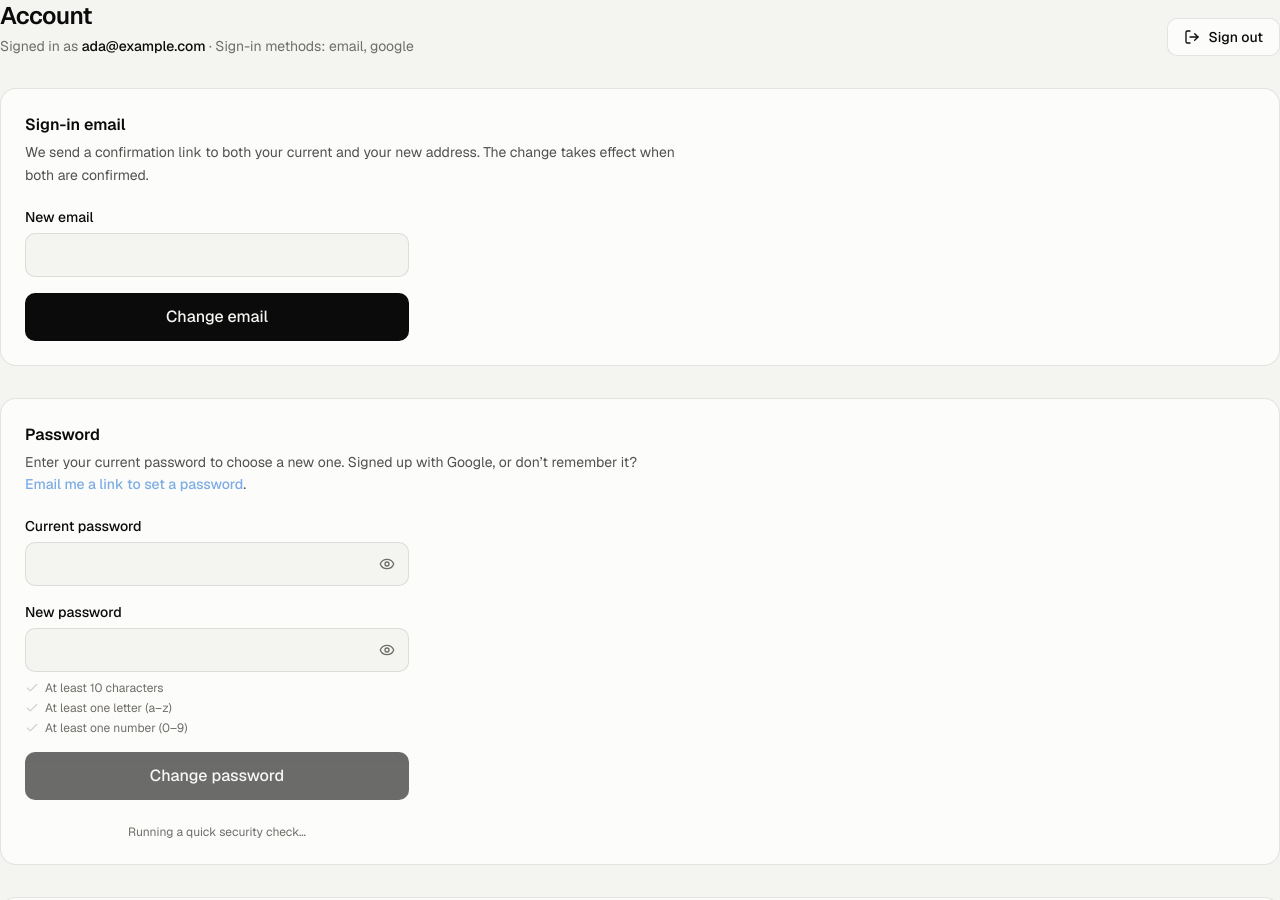
AccountSettings › changing the email › puts an invalid address next to the field, without a general alert
Type "nope" into the field labelled "New email" at (217, 254), box x1=25 y1=232 x2=409 y2=276
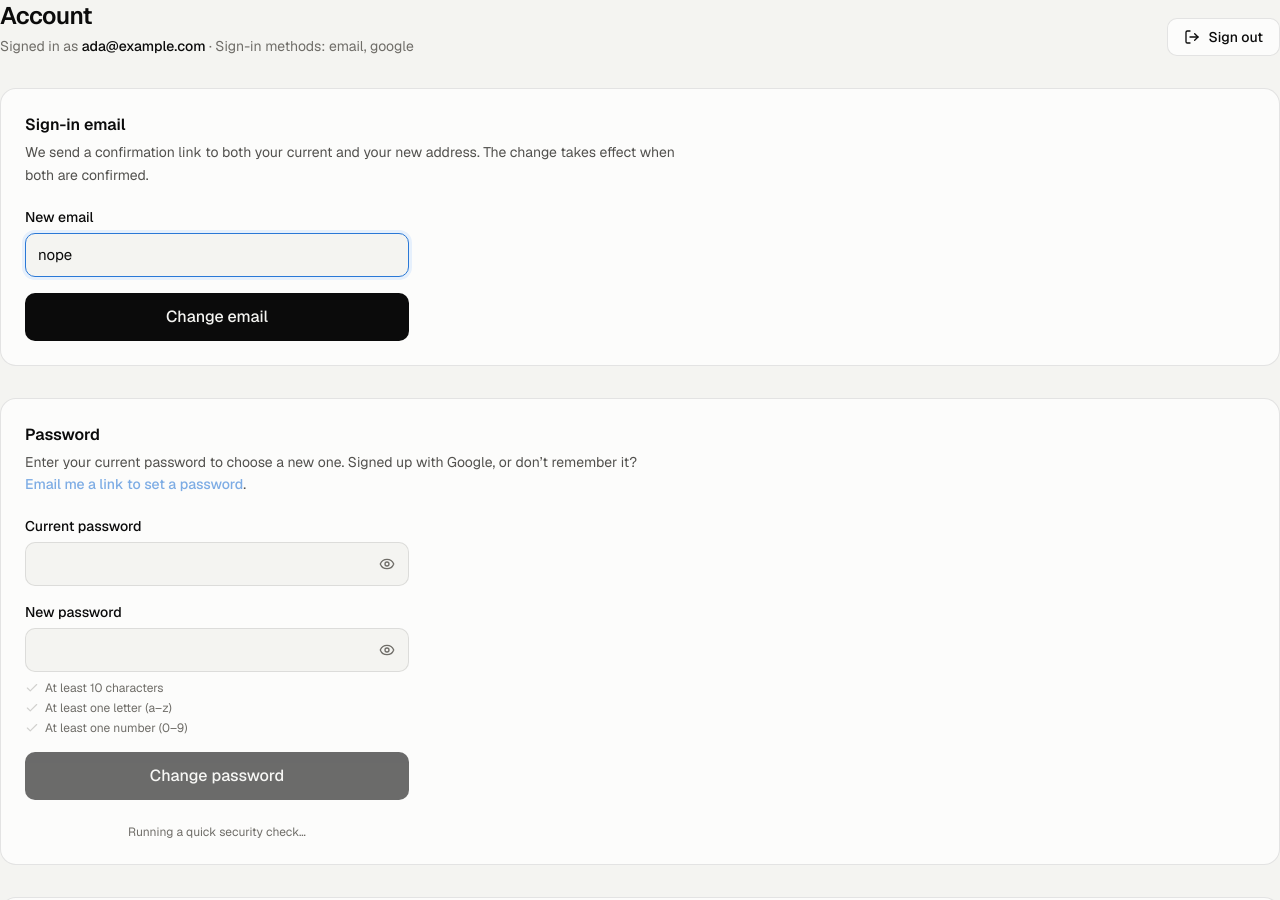
Click the button "Change email" at (217, 316), box x1=25 y1=292 x2=409 y2=340
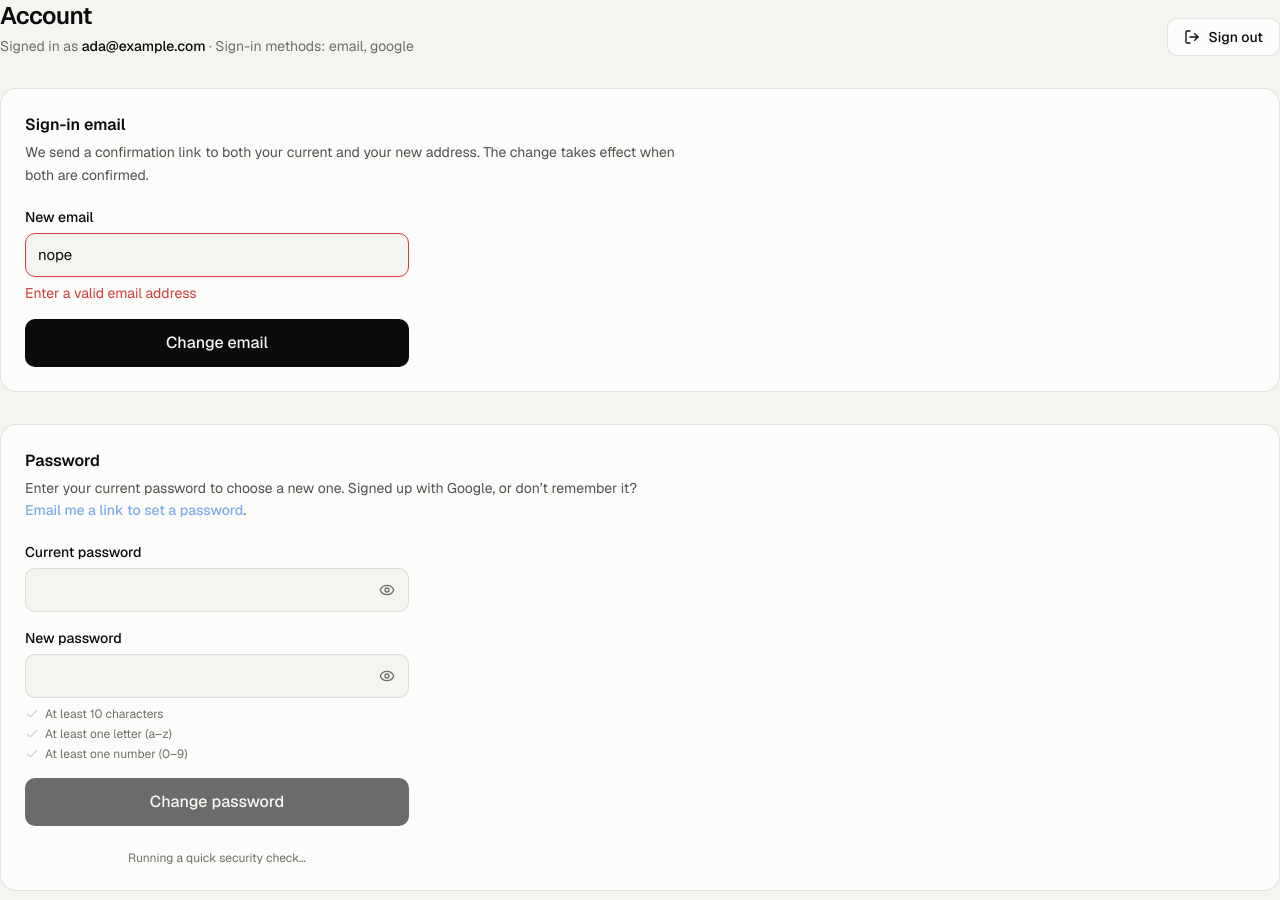
Check: the text "Enter a valid email address" is shown, box x1=25 y1=284 x2=197 y2=302
